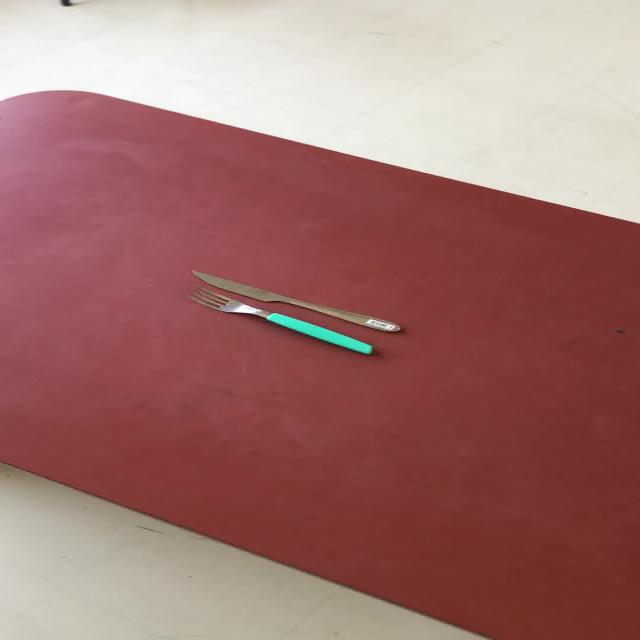fork: (188, 285, 373, 355)
knife fork: (188, 268, 400, 333)
